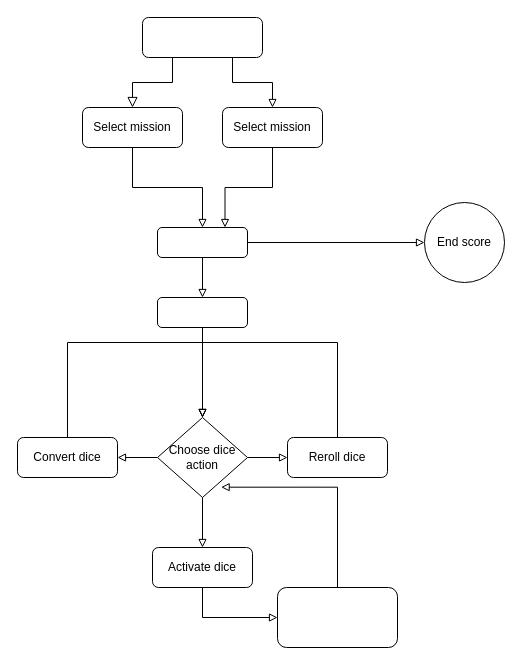
The diagram is 522 pixels wide and 665 high, and some of its shapes have lost their labels. Each missing label, with the centre of its shape:
"deal missions" goes at (x=202, y=37).
"Execute action" goes at (x=337, y=617).
"Next player" goes at (x=202, y=242).
"Roll dice" goes at (x=202, y=312).
